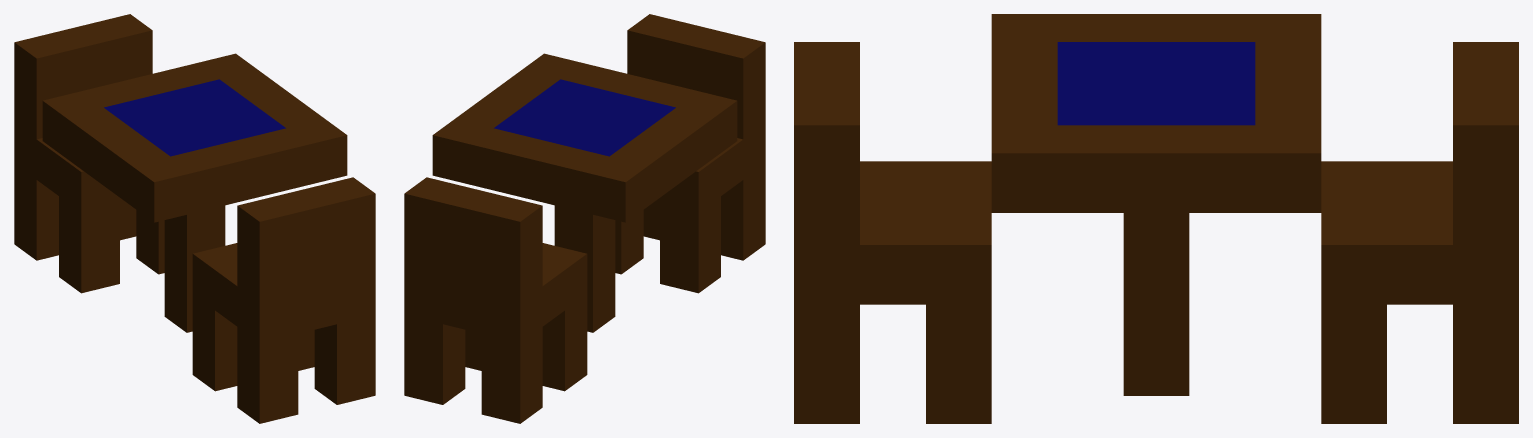
Rendered from set-table-with-chairs-b.obj.
3 renders of one model, left to right at view 1: azimuth 30°, elevation 25°; view 2: azimuth 150°, elevation 25°; view 3: azimuth 270°, elevation 25°, orthographic. The views are drawn at different scales.
Size of the model in its own units: 0.5 by 0.5 by 1.1.
1 material, 1 textured.
